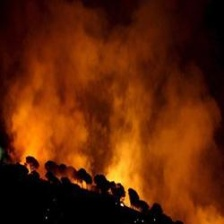fire: (21, 150, 216, 223)
smoke: (13, 23, 216, 140)
